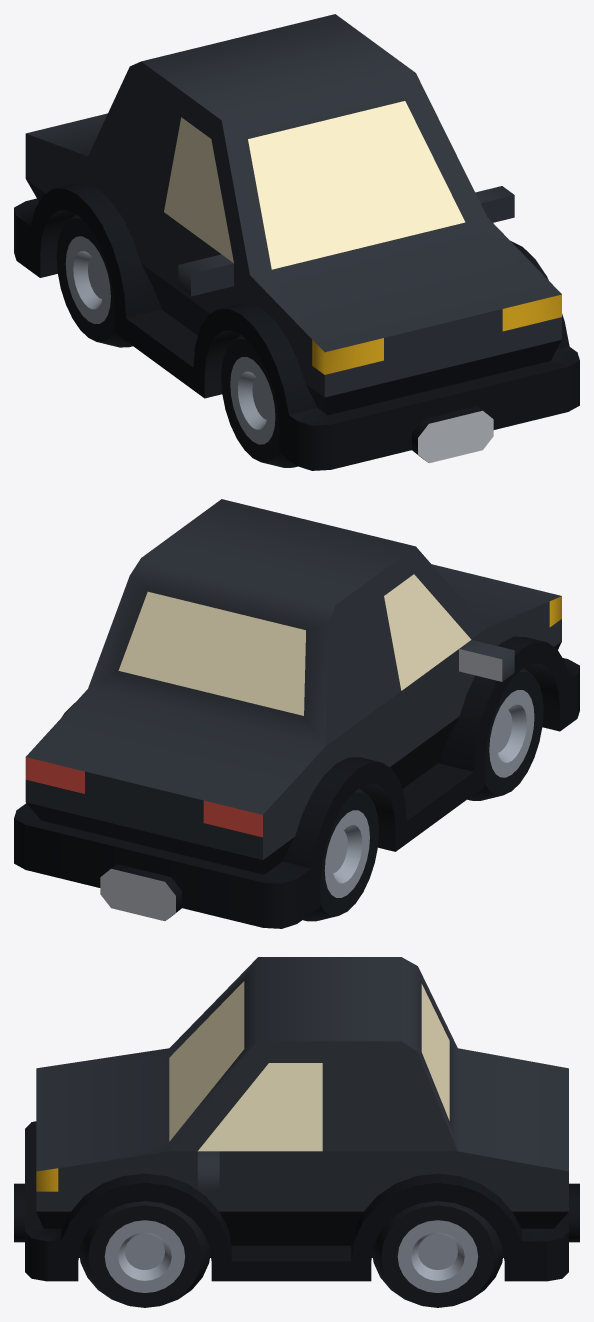
Rendered from car-sedan.glb.
3 views of the same model, one above another, from view 1: azimuth 30°, elevation 25°; view 2: azimuth 150°, elevation 25°; view 3: azimuth 270°, elevation 25° (orthographic). The views are drawn at different scales.
Parts seen in each view (by area): view 1: body, wheel-front-right, wheel-back-right; view 2: body, wheel-back-right, wheel-front-right; view 3: body, wheel-back-left, wheel-front-left.
Part boxes in pixels (x1,y1,x2,y2): body: [14, 14, 579, 470]; wheel-front-right: [221, 335, 297, 467]; wheel-back-right: [56, 214, 132, 347]; body: [14, 499, 579, 928]; wheel-back-right: [303, 788, 378, 921]; wheel-front-right: [467, 668, 543, 800]; body: [14, 957, 579, 1281]; wheel-back-left: [372, 1201, 503, 1307]; wheel-front-left: [79, 1201, 210, 1307].
Bounding box in the file's own units: 1.5 × 1.3 × 2.55.
